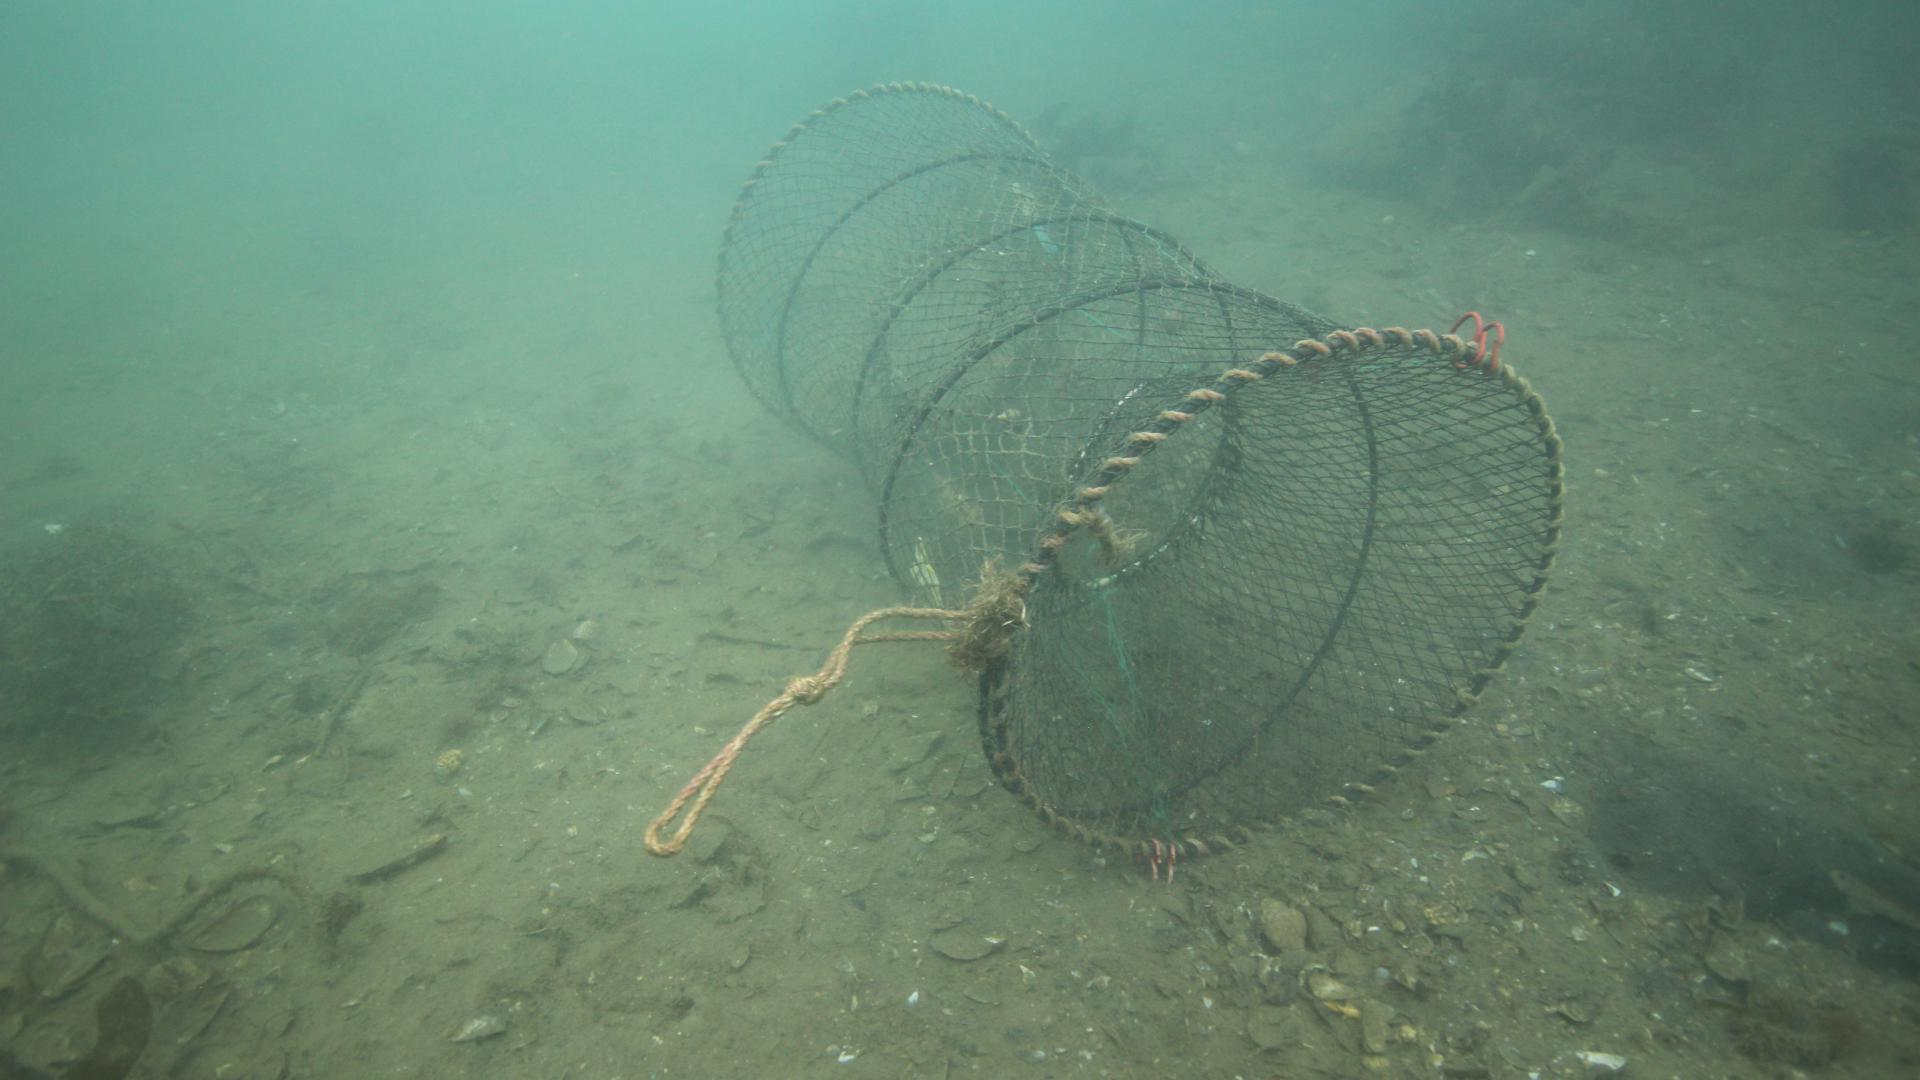bundle of ropes: (638, 597, 982, 869)
spring fish trap: (715, 82, 1571, 866)
